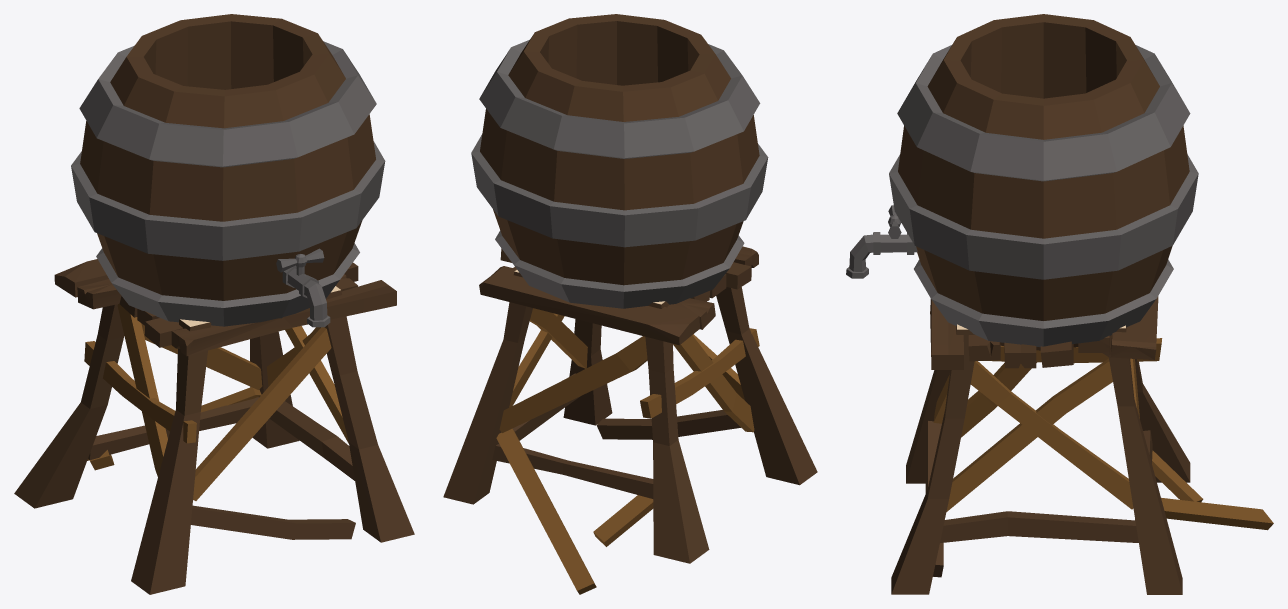
The model's file is Water_storage_1.fbx.
The picture shows the model from 3 angles, left to right: view 1: azimuth 30°, elevation 25°; view 2: azimuth 150°, elevation 25°; view 3: azimuth 270°, elevation 25°; orthographic projection. The views are drawn at different scales.
Visible parts, largest first — view 1: Cube.013; view 2: Cube.013; view 3: Cube.013.
Boxes of the visible parts, box(x1,y1,x2,y2) form: Cube.013: box(14, 14, 414, 594); Cube.013: box(443, 14, 817, 594); Cube.013: box(846, 14, 1273, 594).
Size of the model in its own units: 3.95 by 4.93 by 6.4.
